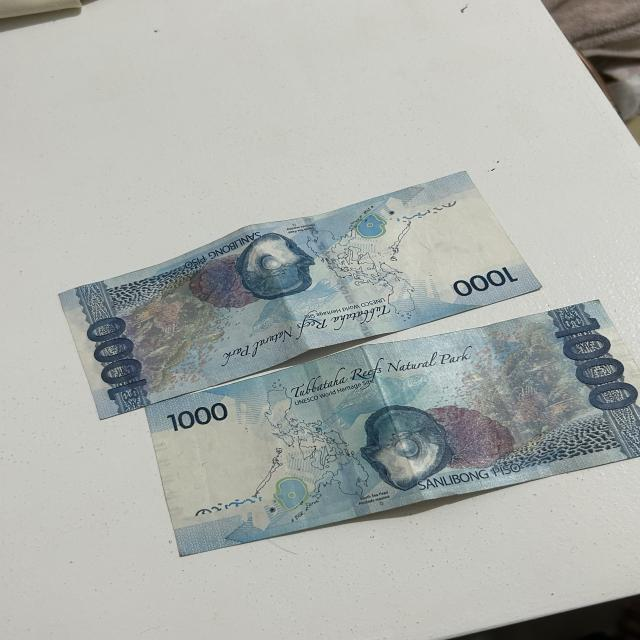1000_pearl: (367, 408, 446, 485), (238, 235, 308, 294)
1000_pearl_watermark: (276, 478, 309, 513), (353, 215, 388, 239)
watermark: (413, 204, 518, 285)
